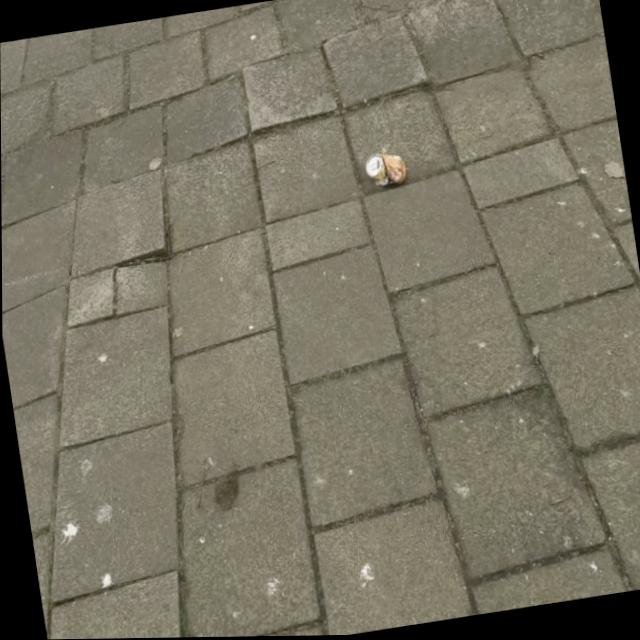Can-Metal: (358, 146, 406, 191)
